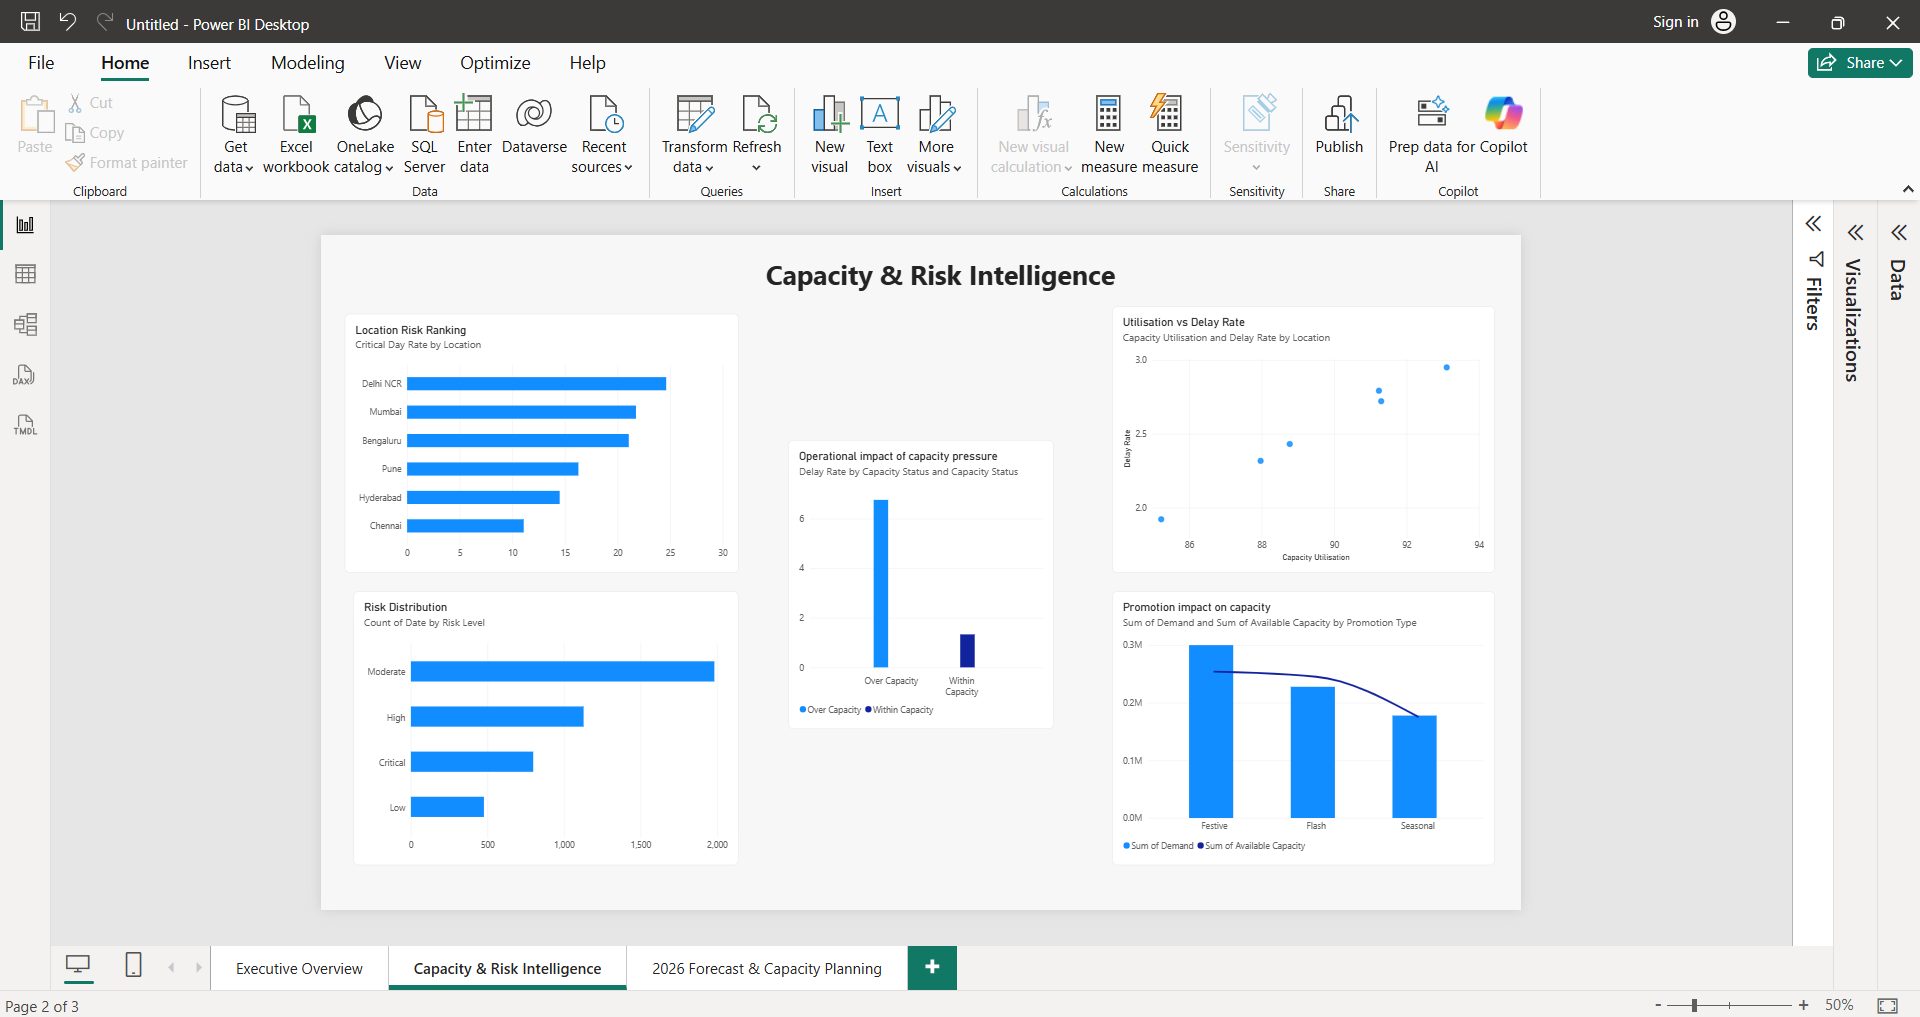

Layout of this report page (visuals, bound fields, positions):
{"tool":"powerbi","page":{"name":"Capacity & Risk Intelligence","canvas":[1920,1080],"ordinal":1},"visuals":[{"type":"textbox","box":[321.2,33.5,1338.3,62.5],"z":0},{"type":"clusteredBarChart","title":"Location Risk Ranking","fields":{"Category":["Operations.Location"],"Y":["Operations.Critical Day Rate"]},"box":[38,126,630,414],"z":1000},{"type":"clusteredBarChart","title":"Risk Distribution","fields":{"Category":["Operations.Risk Level"],"Y":["CountNonNull(Operations.Date)"]},"box":[52,570,616,438],"z":2000},{"type":"scatterChart","title":"Utilisation vs Delay Rate","fields":{"X":["Operations.Capacity Utilisation"],"Y":["Operations.Delay Rate"],"Category":["Operations.Location"]},"box":[1266,114,612,426],"z":3000},{"type":"lineClusteredColumnComboChart","title":"Promotion impact on capacity","fields":{"Y":["Sum(Operations.Demand)"],"Y2":["Sum(Operations.Available Capacity)"],"Category":["Operations.Promotion Type"]},"box":[1266,570,612,438],"z":4000},{"type":"clusteredColumnChart","title":"Operational impact of capacity pressure","fields":{"Category":["Operations.Capacity Status"],"Y":["Operations.Delay Rate"],"Series":["Operations.Capacity Status"]},"box":[748,328,424,462],"z":5000}]}

Visuals, with their boxes on the page's 1920x1080 design canvas (x1, y1, x2, y2). These are canvas units, not pixel positions in the 1920x1017 screenshot, which may show the page scaled, cropped or inside an application window:
textbox: 321 34 1660 96
"Location Risk Ranking" clusteredBarChart: 38 126 668 540
"Risk Distribution" clusteredBarChart: 52 570 668 1008
"Utilisation vs Delay Rate" scatterChart: 1266 114 1878 540
"Promotion impact on capacity" lineClusteredColumnComboChart: 1266 570 1878 1008
"Operational impact of capacity pressure" clusteredColumnChart: 748 328 1172 790
